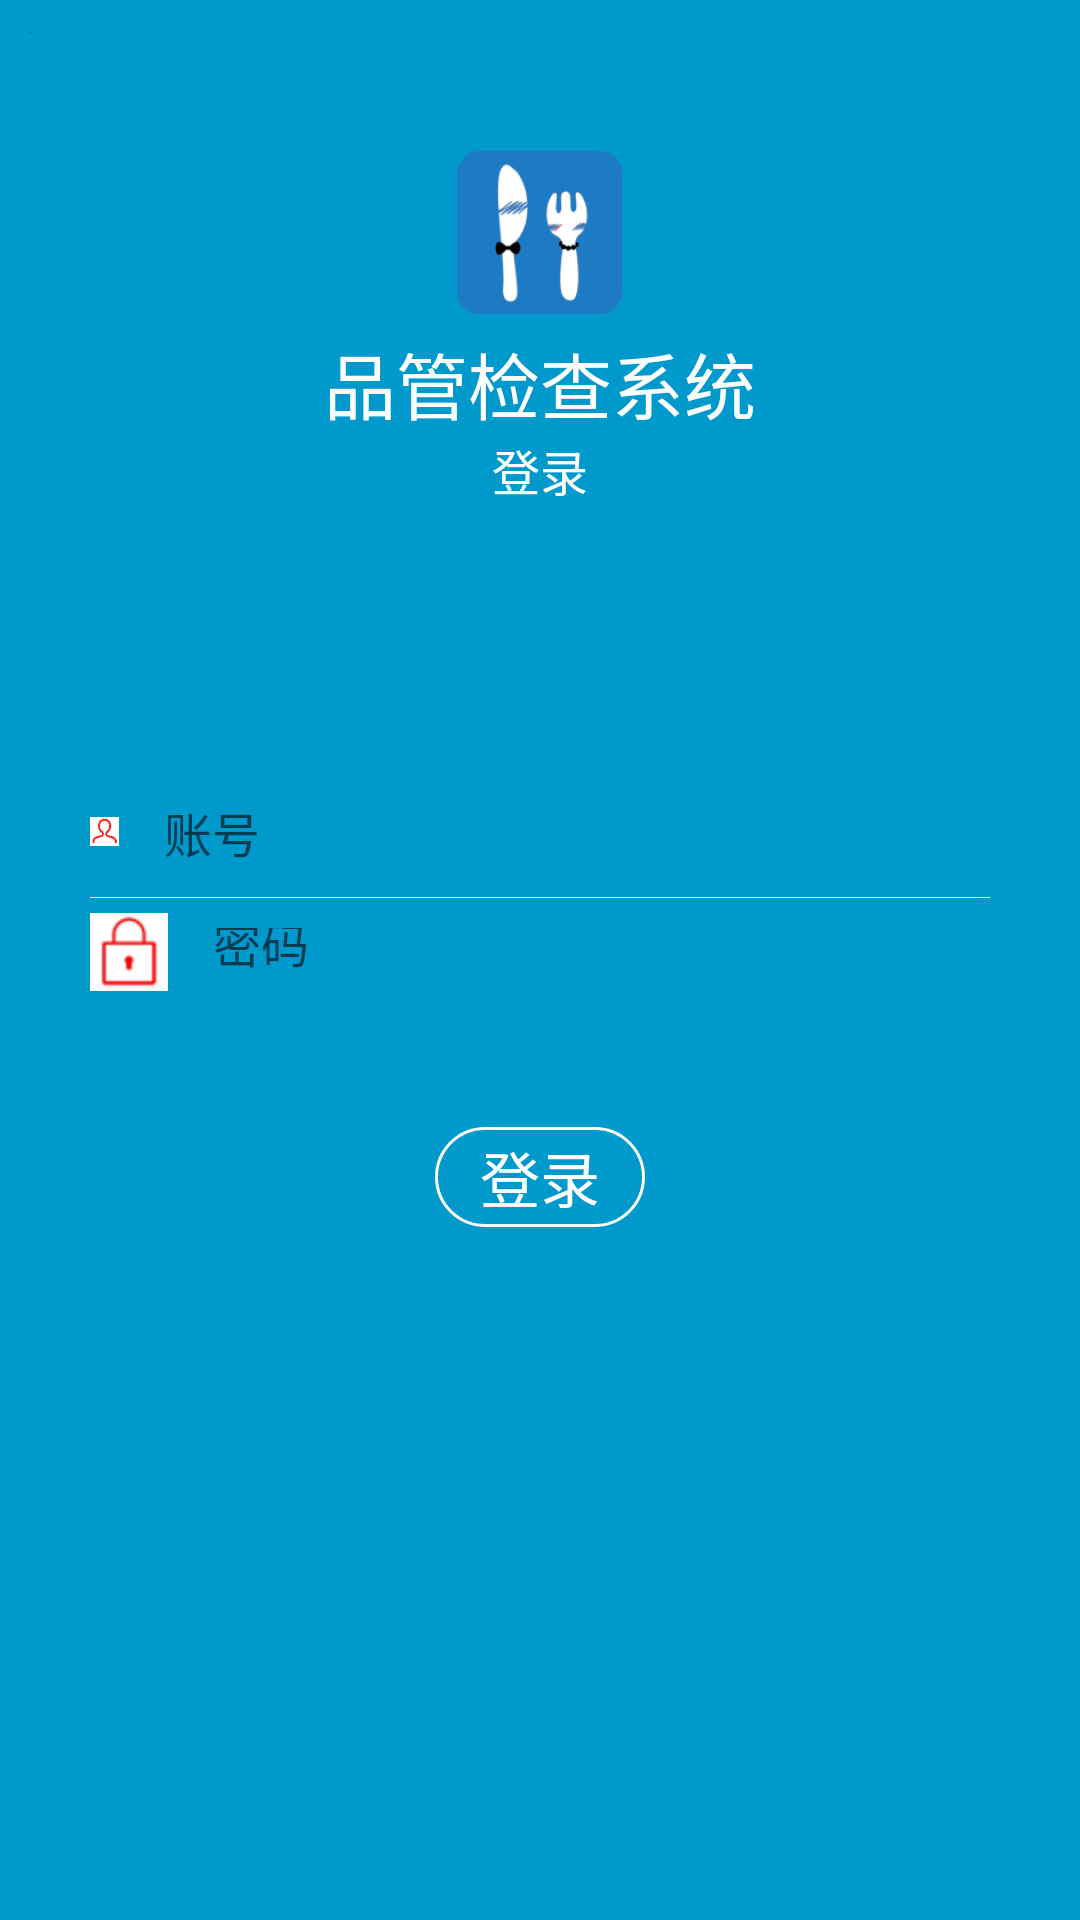

Screen size 1080px×1920px. Icon name, then its box in pixels as rect(x1, y1, x2, y2):
account: rect(90, 817, 119, 846)
password: rect(90, 913, 168, 991)
